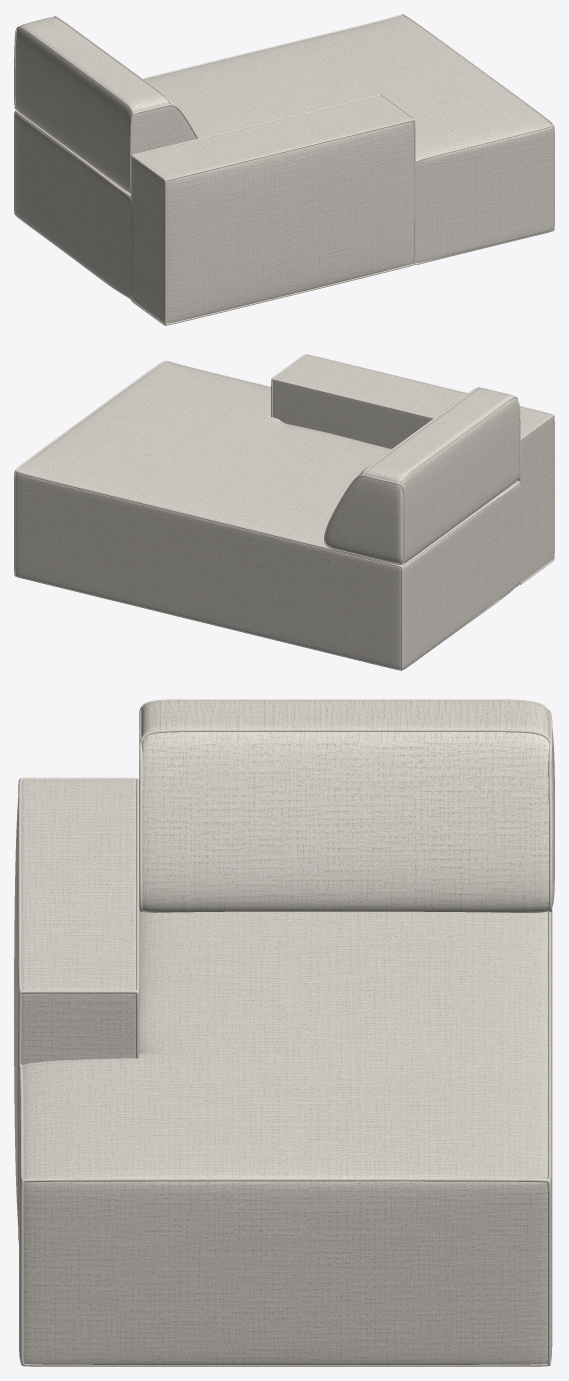
File: longchair_right_130_alpine_ivory.glb
3 renders of one model, top to bottom at view 1: azimuth 30°, elevation 25°; view 2: azimuth 150°, elevation 25°; view 3: azimuth 270°, elevation 25°, orthographic. The views are drawn at different scales.
Parts seen in each view (by area): view 1: Box095, Box088, Box077, Shape048, Shape044, Shape035; view 2: Box095, Box077, Box088, Shape044, Shape048, Shape035; view 3: Box095, Box077, Box088, Shape044, Shape035, Shape048.
Boxes of the visible parts, left/top/right/bottom form: Box095: left=14, top=15, right=553, bottom=298; Box088: left=132, top=95, right=414, bottom=323; Box077: left=15, top=17, right=196, bottom=193; Shape048: left=131, top=94, right=415, bottom=325; Shape044: left=15, top=14, right=554, bottom=299; Shape035: left=14, top=16, right=198, bottom=193; Box095: left=15, top=361, right=522, bottom=669; Box077: left=325, top=387, right=519, bottom=563; Box088: left=273, top=355, right=553, bottom=582; Shape044: left=14, top=360, right=510, bottom=670; Shape048: left=271, top=354, right=554, bottom=584; Shape035: left=324, top=387, right=520, bottom=564; Box095: left=19, top=910, right=552, bottom=1364; Box077: left=141, top=700, right=554, bottom=912; Box088: left=14, top=779, right=135, bottom=1225; Shape044: left=19, top=911, right=551, bottom=1366; Shape035: left=139, top=699, right=552, bottom=912; Shape048: left=18, top=777, right=139, bottom=1243.
Bounding box in the file's own units: 1.75 × 0.8369 × 1.19.
Materials: 2 (2 with a texture image).
